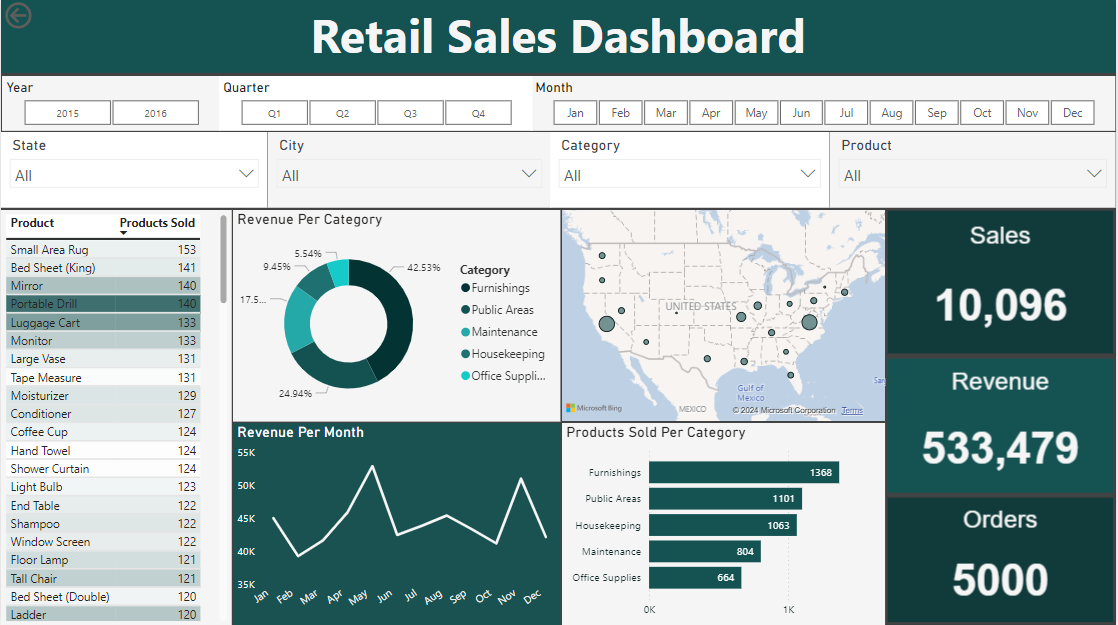

Layout of this report page (visuals, bound fields, positions):
{"tool":"powerbi","page":{"name":"Sales Dashboard","canvas":[1280,720],"ordinal":0},"visuals":[{"type":"textbox","box":[0,0,1280,86.1],"z":0},{"type":"slicer","title":"Year","fields":{"Values":["order_details.year"]},"box":[0.9,89.1,250,62.7],"z":1000},{"type":"slicer","fields":{"Values":["property_info.prop_state"]},"box":[0,153.6,306.4,87.3],"z":2000},{"type":"slicer","fields":{"Values":["property_info.prop_city"]},"box":[306.4,153.6,324.5,87.3],"z":3000},{"type":"slicer","fields":{"Values":["products.product_category"]},"box":[630.9,153.6,320.9,87.3],"z":4000},{"type":"slicer","fields":{"Values":["products.product_name"]},"box":[951.8,153.6,328.2,87.3],"z":5000},{"type":"slicer","title":"Month","fields":{"Values":["order_details.month"]},"box":[609.1,89.1,670.9,62.7],"z":6000},{"type":"BBED0A4D4D8D44CE93CF2DAFADEE466C","fields":{"actual":["Sum(order_details.quantity)"]},"box":[1015.3,240.6,264.7,170],"z":7000},{"type":"BBED0A4D4D8D44CE93CF2DAFADEE466C","fields":{"actual":["CountNonNull(order_details.order_id)"]},"box":[1015.3,570.6,264.7,149.4],"z":8000},{"type":"BBED0A4D4D8D44CE93CF2DAFADEE466C","fields":{"actual":["Sum(order_details.revenue)"]},"box":[1015.3,410.6,264.7,160],"z":9000},{"type":"map","fields":{"Category":["property_info.prop_state"],"Size":["Sum(order_details.revenue)"]},"box":[644.7,243.3,370.7,242],"z":10000},{"type":"actionButton","box":[0,0,100,40],"z":11000},{"type":"clusteredBarChart","title":"Products Sold Per Category","fields":{"Category":["products.product_category"],"Y":["CountNonNull(order_details.order_id)"]},"box":[644.7,488,370.7,232],"z":12000},{"type":"tableEx","fields":{"Values":["products.product_name","Sum(order_details.quantity)"]},"box":[0,243.1,264.6,476.9],"z":13000},{"type":"lineChart","title":"Revenue Per Month","fields":{"Category":["order_details.month"],"Y":["Sum(order_details.revenue)"]},"box":[266.9,488.1,375.6,231.9],"z":14000},{"type":"slicer","title":"Quarter","fields":{"Values":["order_details.Quarter"]},"box":[250.9,89.1,360,62.7],"z":15000},{"type":"donutChart","title":"Revenue Per Category","fields":{"Category":["products.product_category"],"Y":["Sum(order_details.revenue)"]},"box":[266.9,243.1,375.6,242.5],"z":16000}]}

Visuals, with their boxes in screenshot pixels (x1, y1, x2, y2), scaled from the page's 1280x720 canvas onto the 1118x625 screenshot:
textbox: x1=0 y1=0 x2=1117 y2=75
"Year" slicer: x1=1 y1=77 x2=219 y2=132
slicer - property_info.prop_state: x1=0 y1=133 x2=268 y2=209
slicer - property_info.prop_city: x1=268 y1=133 x2=551 y2=209
slicer - products.product_category: x1=551 y1=133 x2=831 y2=209
slicer - products.product_name: x1=831 y1=133 x2=1117 y2=209
"Month" slicer: x1=532 y1=77 x2=1117 y2=132
BBED0A4D4D8D44CE93CF2DAFADEE466C - Sum(order_details.quantity): x1=887 y1=209 x2=1117 y2=356
BBED0A4D4D8D44CE93CF2DAFADEE466C - CountNonNull(order_details.order_id): x1=887 y1=495 x2=1117 y2=624
BBED0A4D4D8D44CE93CF2DAFADEE466C - Sum(order_details.revenue): x1=887 y1=356 x2=1117 y2=495
map - property_info.prop_state x Sum(order_details.revenue): x1=563 y1=211 x2=887 y2=421
actionButton: x1=0 y1=0 x2=87 y2=35
"Products Sold Per Category" clusteredBarChart: x1=563 y1=424 x2=887 y2=624
tableEx - products.product_name x Sum(order_details.quantity): x1=0 y1=211 x2=231 y2=624
"Revenue Per Month" lineChart: x1=233 y1=424 x2=561 y2=624
"Quarter" slicer: x1=219 y1=77 x2=534 y2=132
"Revenue Per Category" donutChart: x1=233 y1=211 x2=561 y2=422
